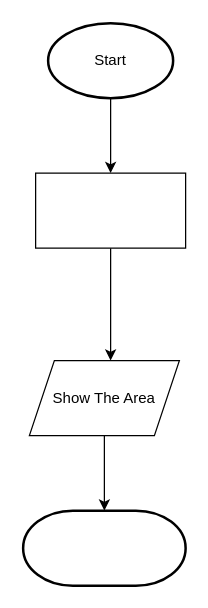
The diagram is 208 pixels wide and 608 high, and some of its shapes have lost their labels. Each missing label, with the box of its shape:
Area = (a+b) / 2 * h: (34, 172, 186, 248)
Stop: (21, 509, 186, 586)
